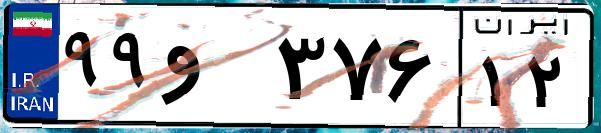1: (475, 38, 525, 113)
2: (525, 38, 570, 115)
3: (270, 28, 330, 110)
6: (385, 28, 445, 110)
7: (330, 28, 385, 110)
9: (57, 26, 110, 100), (110, 28, 158, 98)
و: (158, 20, 270, 120)
